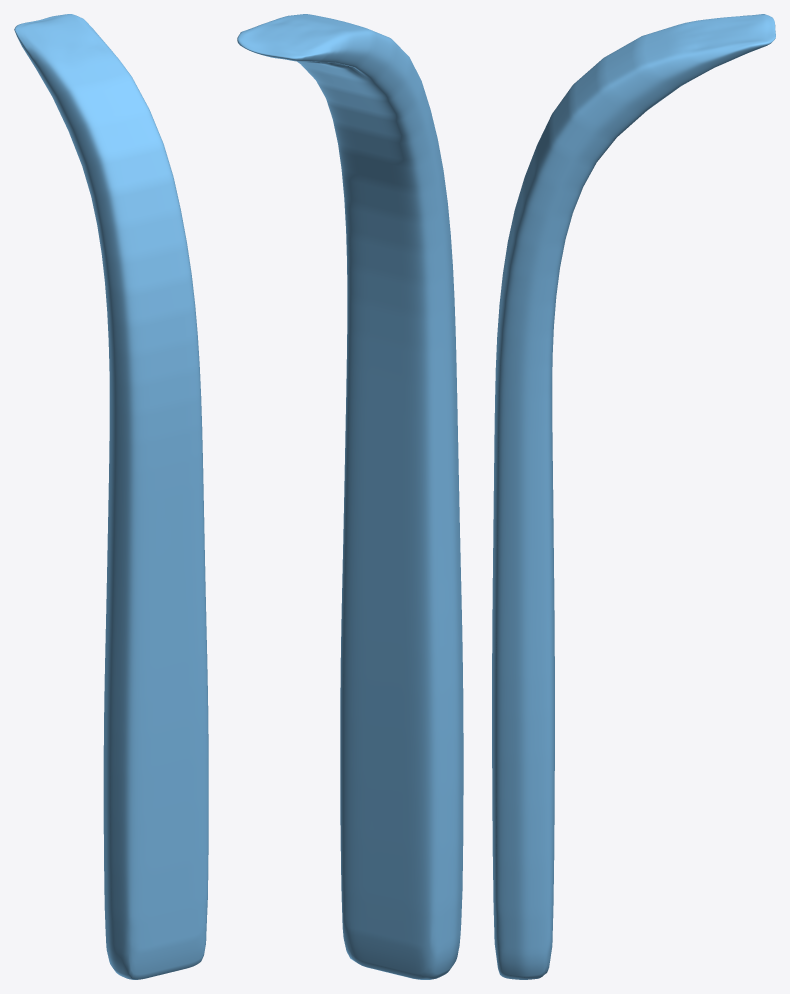
File: Water.obj
3 renders of one model, left to right at view 1: azimuth 30°, elevation 25°; view 2: azimuth 150°, elevation 25°; view 3: azimuth 270°, elevation 25°, orthographic. The views are drawn at different scales.
Visible parts, largest first — view 1: polySurface36 polySurface15; view 2: polySurface36 polySurface15; view 3: polySurface36 polySurface15.
Part boxes in pixels (left/top/right/bottom): polySurface36 polySurface15: left=14, top=14, right=208, bottom=979; polySurface36 polySurface15: left=237, top=14, right=463, bottom=979; polySurface36 polySurface15: left=492, top=14, right=775, bottom=979.
Bounding box in the file's own units: 0.8022 × 6.99 × 1.92.
